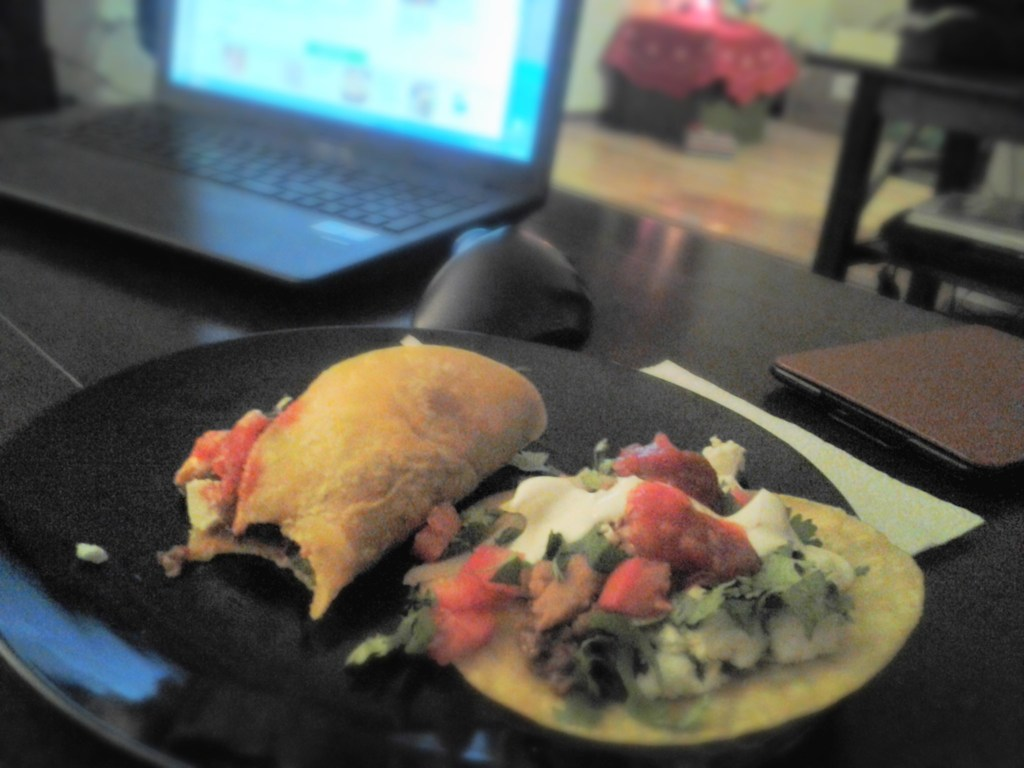taco: (436, 438, 926, 748), (153, 344, 556, 618)
